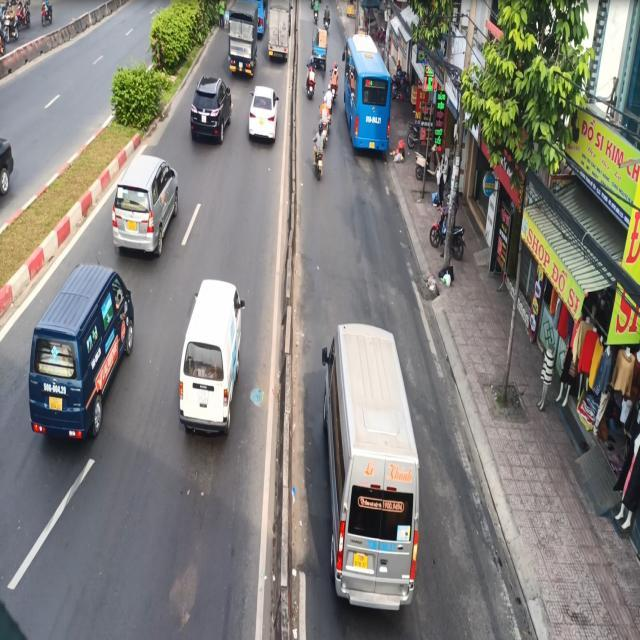bus: (340, 31, 392, 154)
car: (320, 322, 420, 611), (27, 262, 134, 442), (177, 278, 246, 436), (110, 154, 179, 258), (0, 137, 14, 195)
